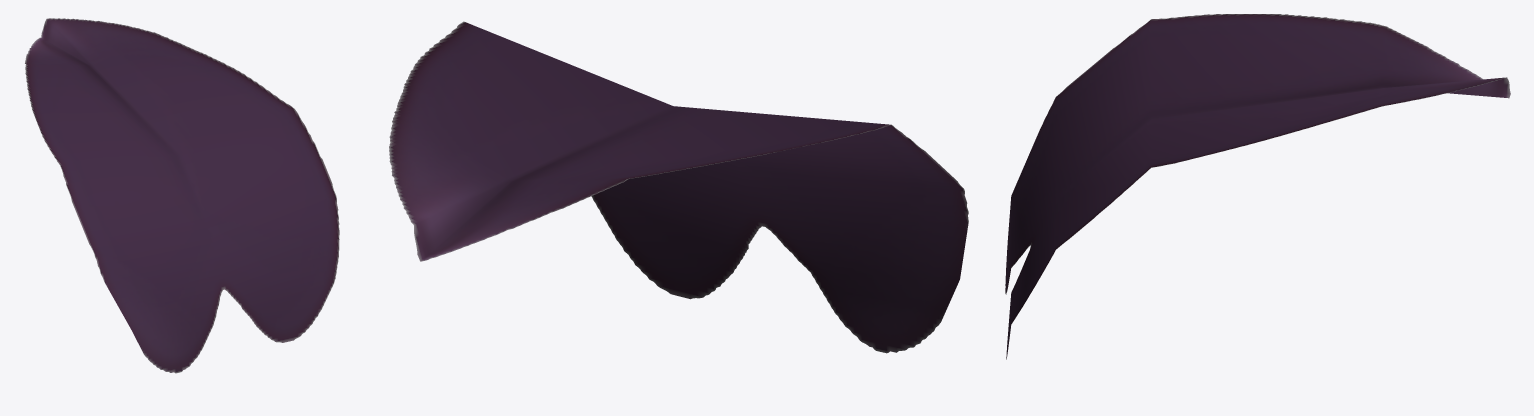
Rendered from PROP_Leaf_01_block.fbx.
3 renders of one model, left to right at view 1: azimuth 30°, elevation 25°; view 2: azimuth 150°, elevation 25°; view 3: azimuth 270°, elevation 25°, orthographic. The views are drawn at different scales.
Parts seen in each view (by area): view 1: PROP_Leaf_01_block; view 2: PROP_Leaf_01_block; view 3: PROP_Leaf_01_block.
Boxes of the visible parts, x1,y1,x2,y2 form: PROP_Leaf_01_block: (25, 18, 339, 373); PROP_Leaf_01_block: (389, 21, 968, 353); PROP_Leaf_01_block: (1005, 14, 1510, 359).
Bounding box in the file's own units: 67.91 × 63.18 × 92.34.
Materials: 1 (1 with a texture image).
